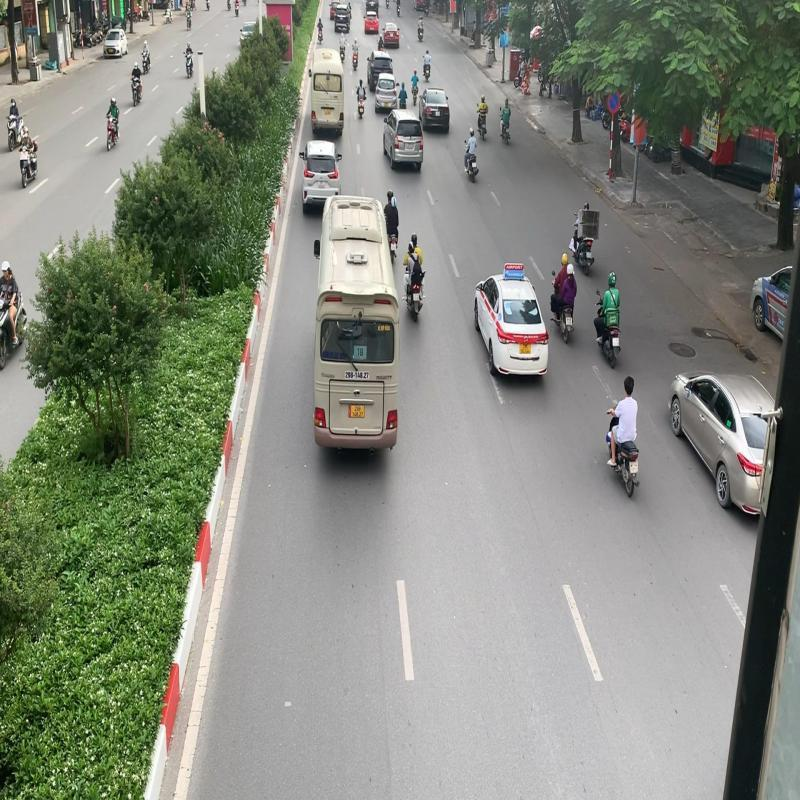motorcyclist: (606, 374, 642, 500)
nohelmet: (624, 376, 634, 393)
